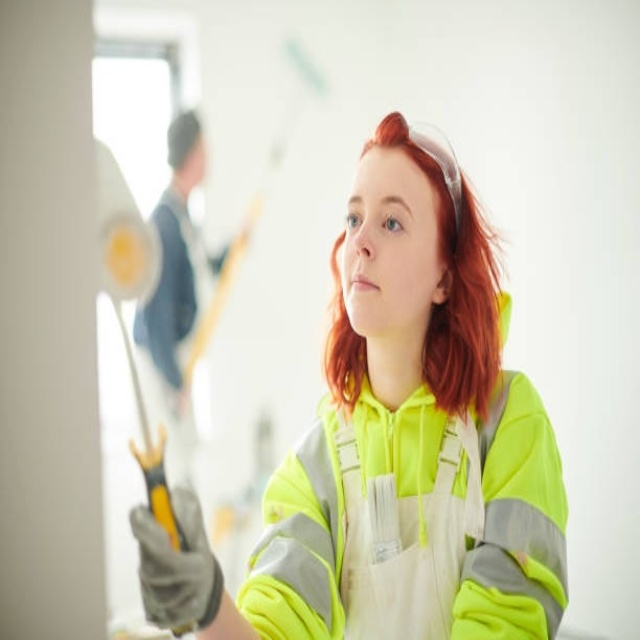Guantes: (129, 486, 224, 635)
Sin_gafas: (343, 184, 431, 246)
Sin_mascara: (343, 265, 391, 322)
